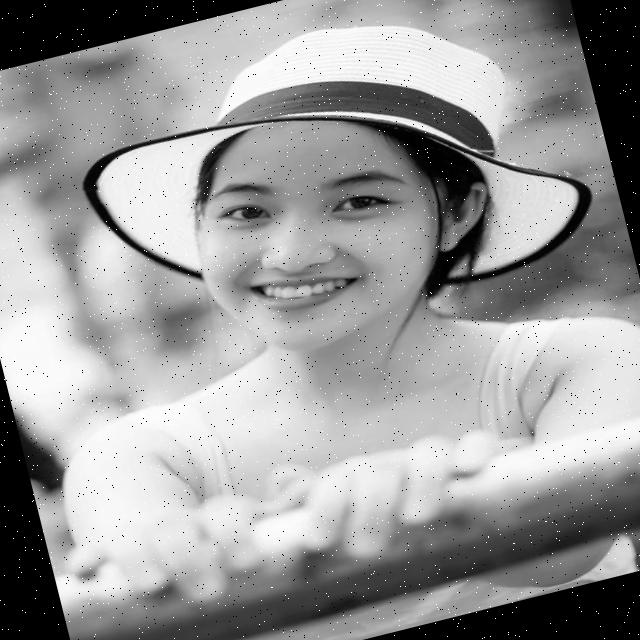Happiness: (166, 86, 462, 380)
